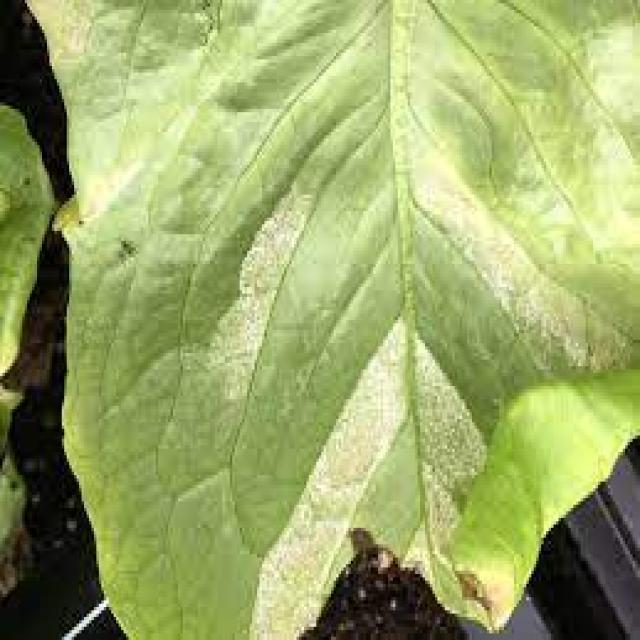Powdery_mildew_on_lettuce: (263, 163, 548, 522)
